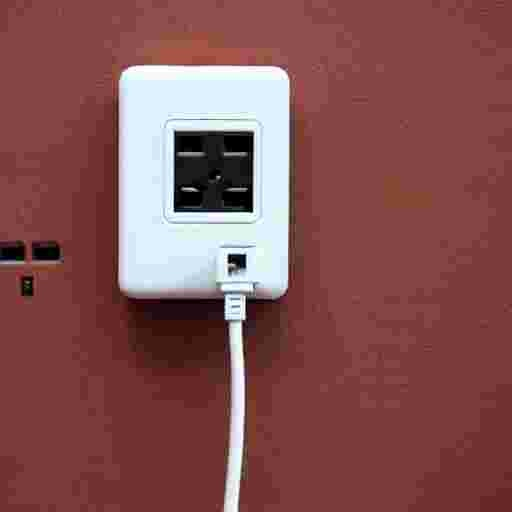power outlet: (118, 65, 289, 298)
